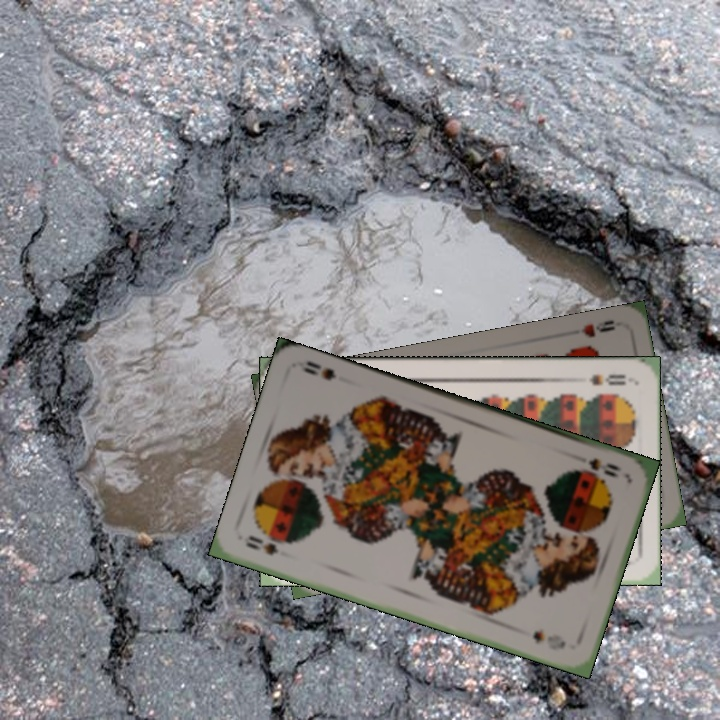H9: (577, 316, 618, 340)
S8: (586, 371, 629, 388)
SO: (576, 454, 623, 481), (242, 531, 281, 558)
